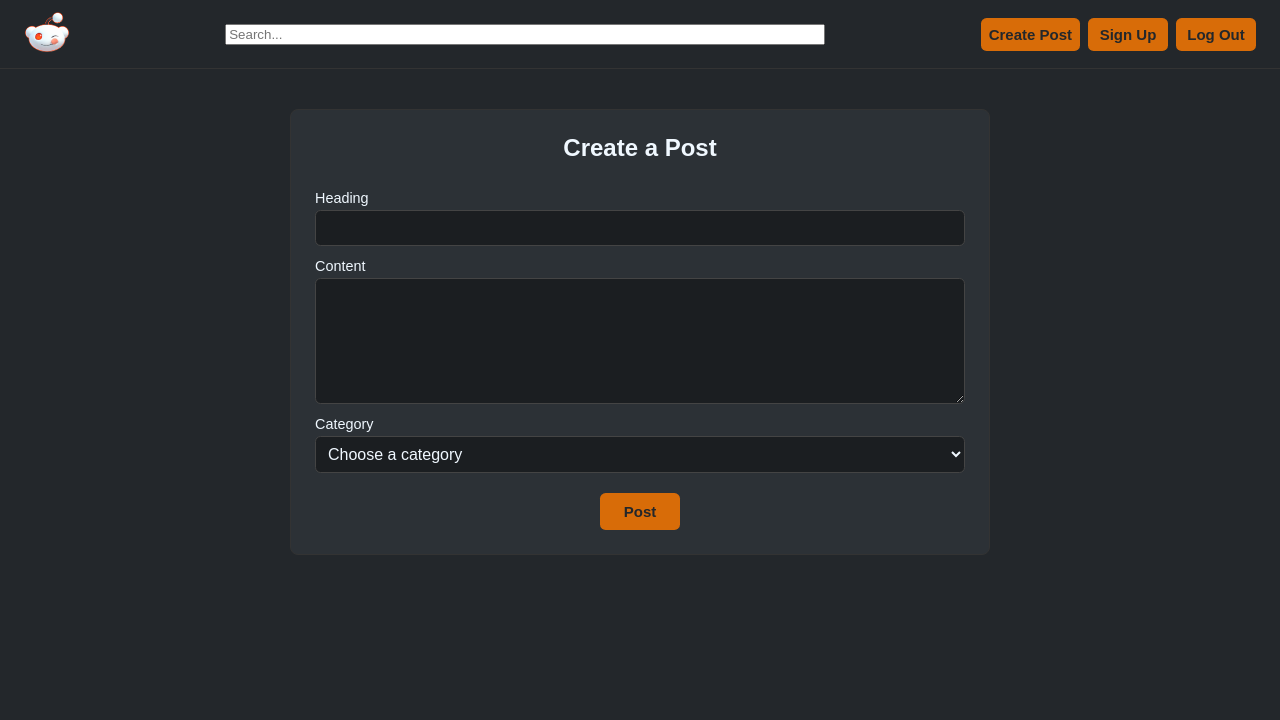
Test case: shows an error and sends nothing when fields are empty
The width and height of the screenshot is (1280, 720).
In the field labelled "Heading": {"x": 640, "y": 228} [315, 210, 965, 246], type "Only a heading"
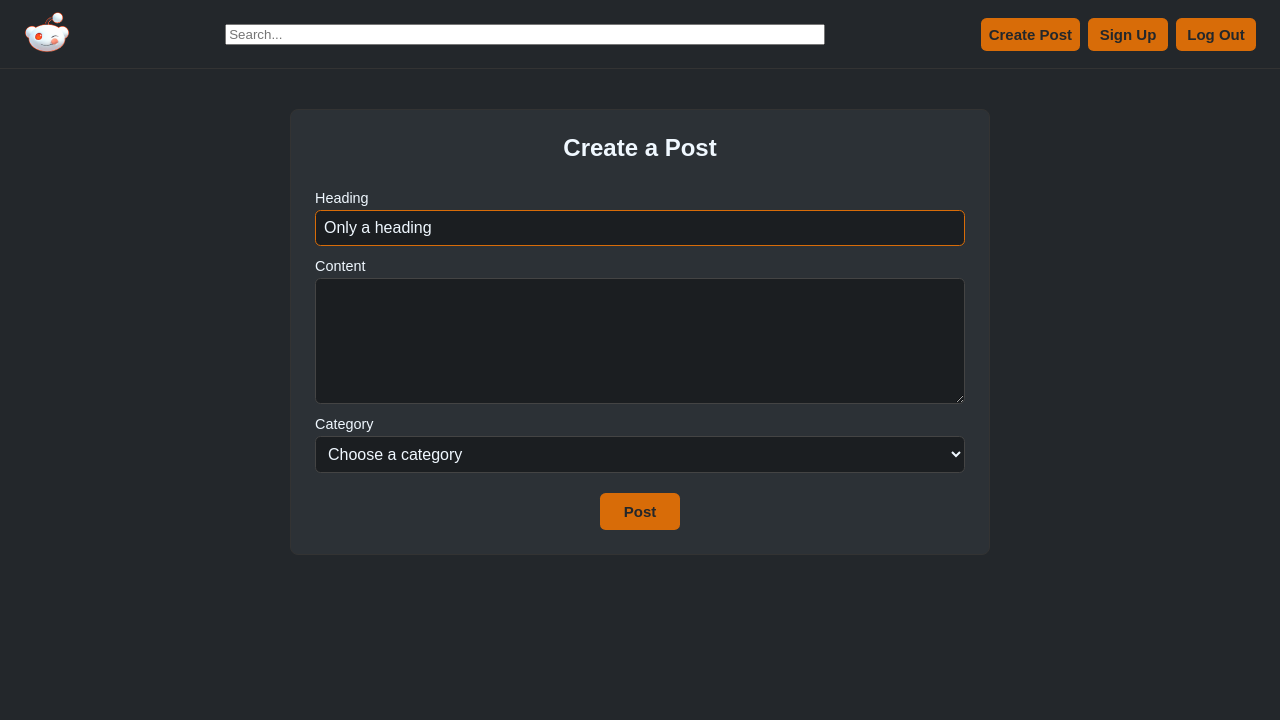
Click the button "Post": {"x": 640, "y": 512} [600, 493, 680, 530]
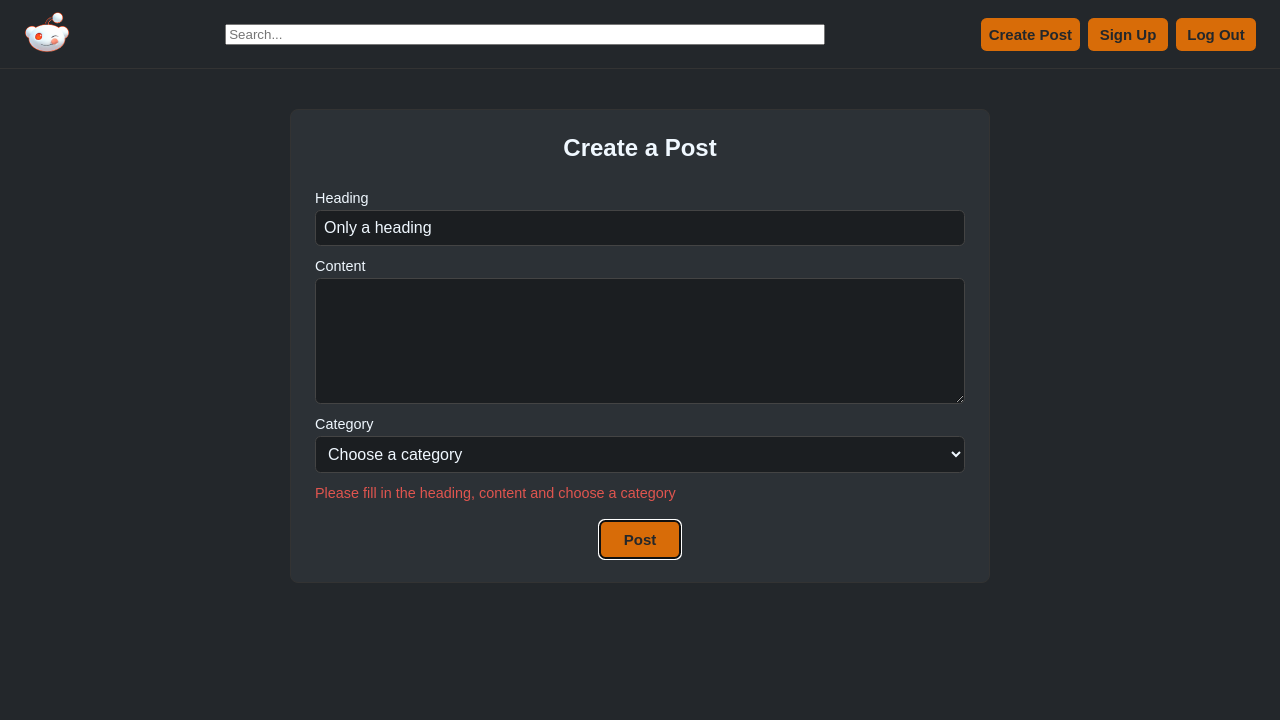
Expected: the text "Please fill in the heading, content and choose a category" is shown, [315, 485, 676, 501]
